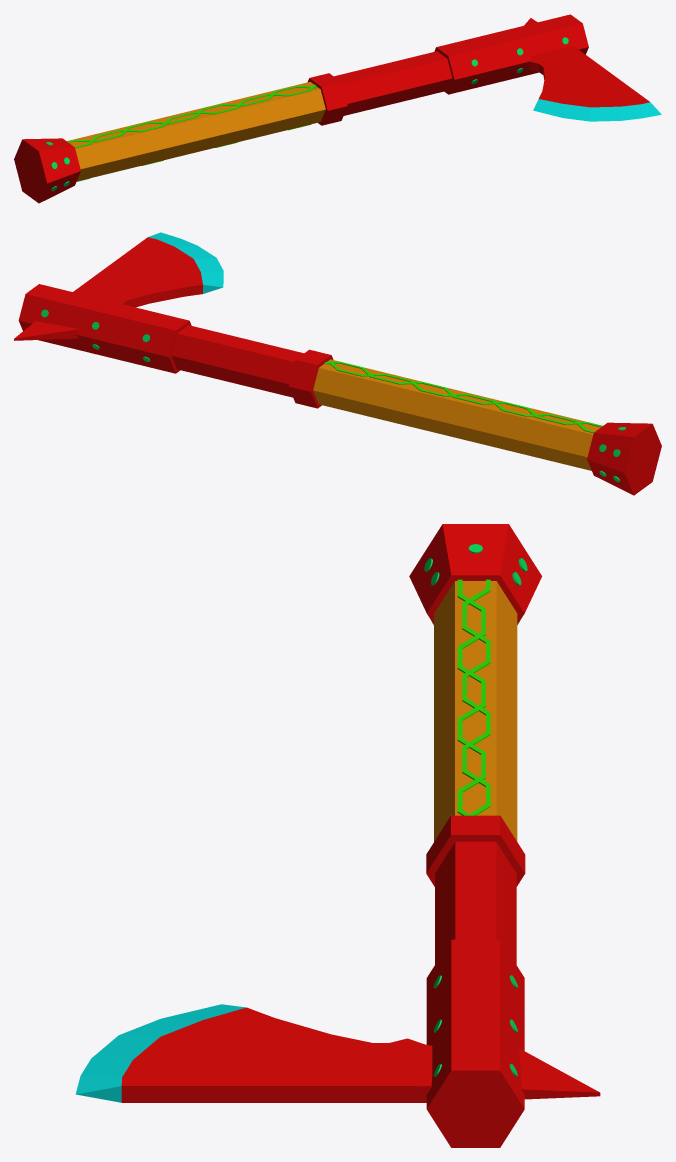
Rendered from sekera.fbx.
3 renders of one model, top to bottom at view 1: azimuth 30°, elevation 25°; view 2: azimuth 150°, elevation 25°; view 3: azimuth 270°, elevation 25°, orthographic. The views are drawn at different scales.
Parts seen in each view (by area): view 1: Cylinder.011; view 2: Cylinder.011; view 3: Cylinder.011.
Boxes of the visible parts, left/top/right/bottom form: Cylinder.011: left=14, top=14, right=661, bottom=203; Cylinder.011: left=14, top=232, right=661, bottom=495; Cylinder.011: left=75, top=524, right=600, bottom=1147.
Bounding box in the file's own units: 3028 × 277 × 1260.
